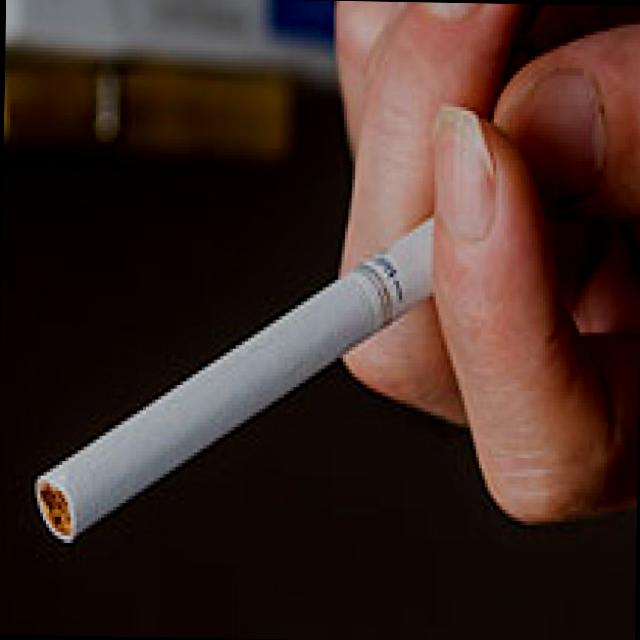cigarette: (26, 195, 492, 570)
